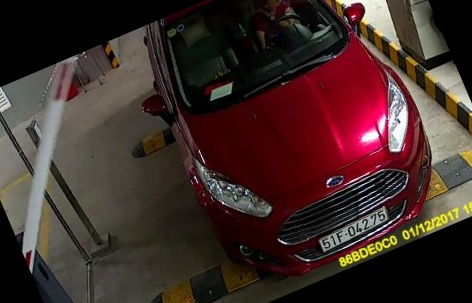plate: (319, 202, 388, 257)
